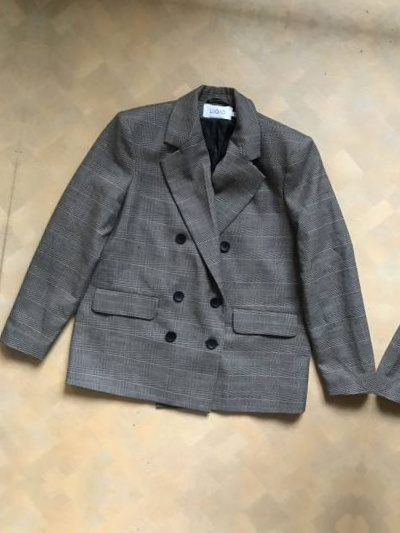Blazer: (0, 46, 400, 446), (365, 103, 400, 504), (0, 0, 34, 388)
